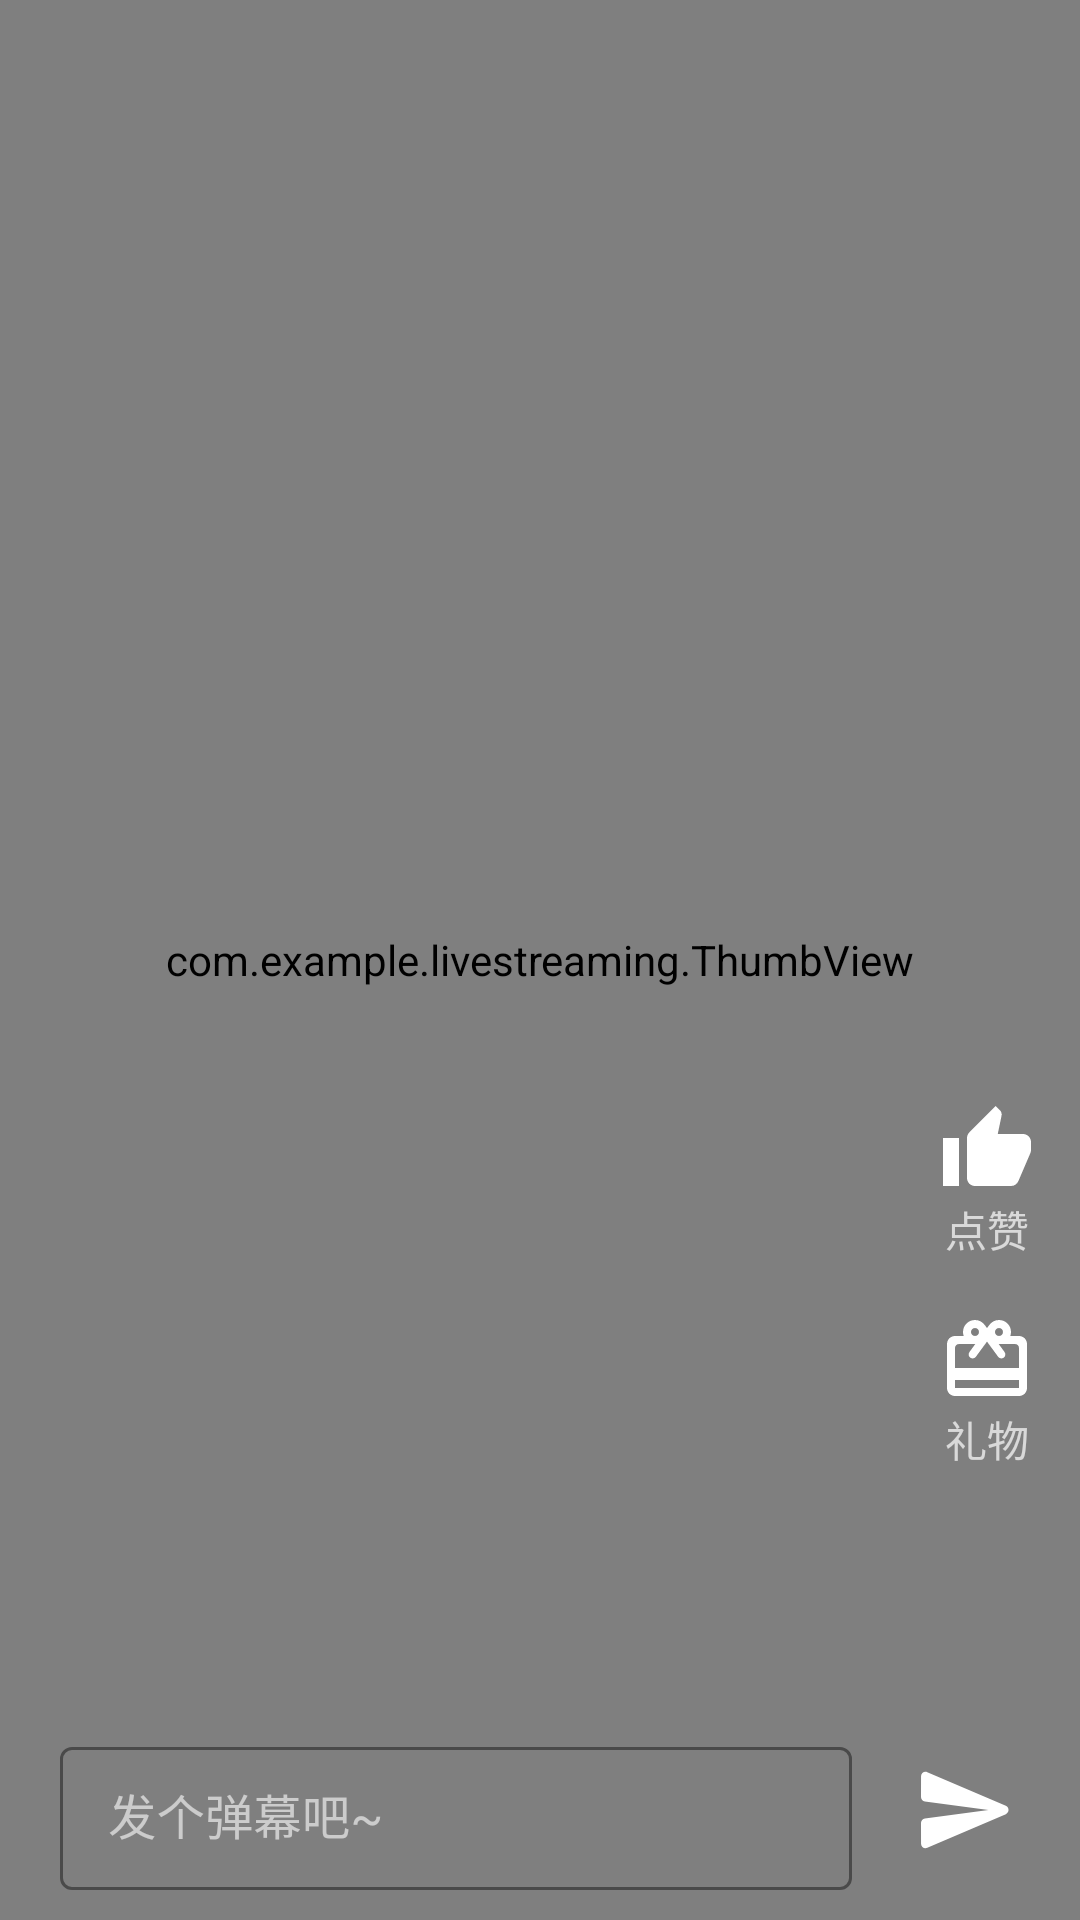

Named icons in this screenshot (1080×1920) and their centers, (x=x, y=y):
发送弹幕: (x=965, y=1810)
